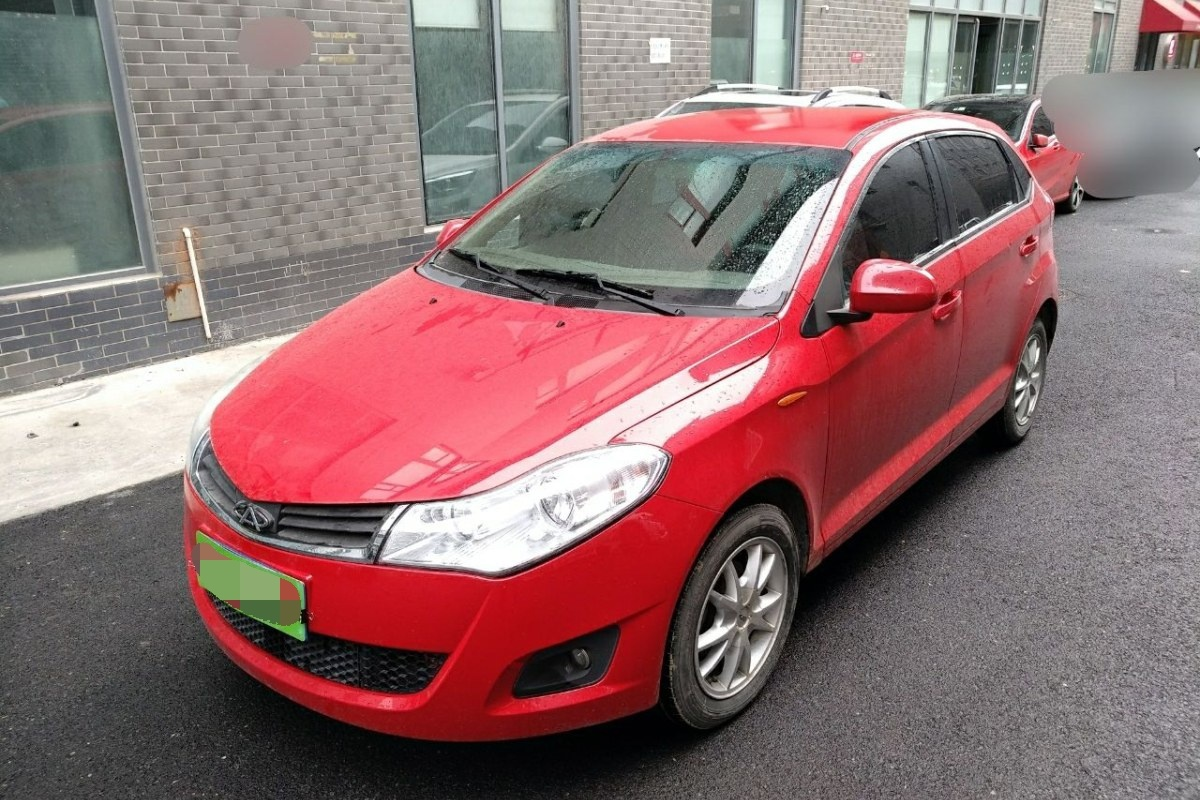family sedan: (163, 57, 1090, 720)
